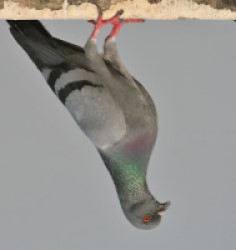pigeon: (5, 12, 173, 232)
